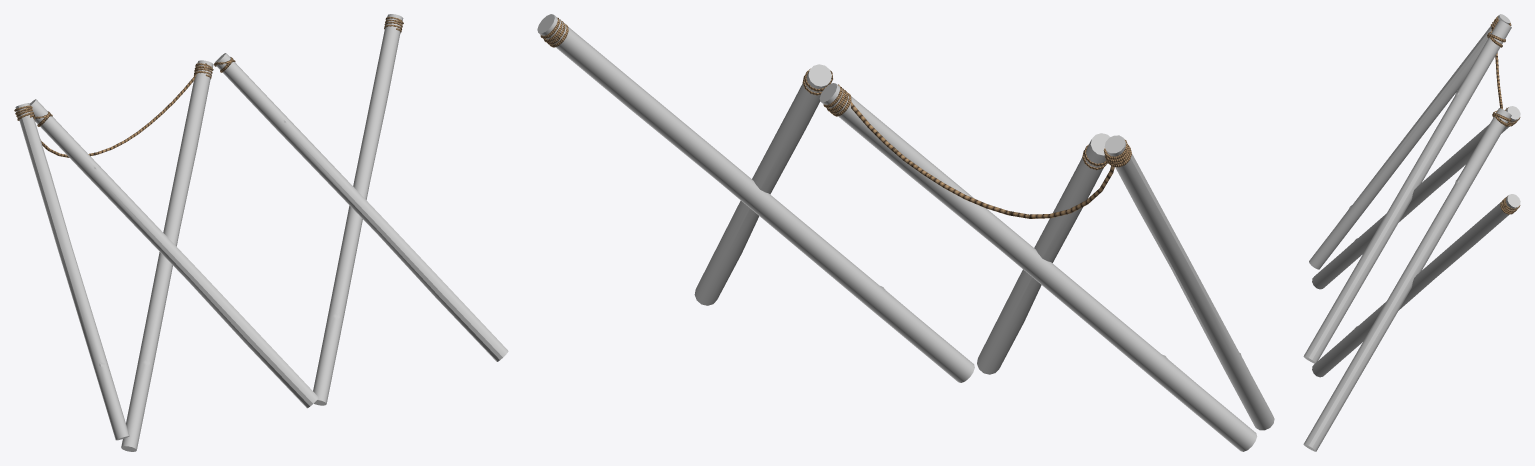
Rendered from SM_Scaffold_structure_base_1.fbx.
3 views of the same model, side by side, from view 1: azimuth 30°, elevation 25°; view 2: azimuth 150°, elevation 25°; view 3: azimuth 270°, elevation 25° (orthographic). The views are drawn at different scales.
Visible parts, largest first — view 1: SM_Scaffold_structure_base_1_5, SM_Scaffold_structure_base_1_3, SM_Scaffold_structure_base_1_6, SM_Scaffold_structure_base_1_4, SM_Scaffold_structure_base_1_1, SM_Scaffold_structure_base_1_2; view 2: SM_Scaffold_structure_base_1_4, SM_Scaffold_structure_base_1_6, SM_Scaffold_structure_base_1_1, SM_Scaffold_structure_base_1_5, SM_Scaffold_structure_base_1_3, SM_Scaffold_structure_base_1_2; view 3: SM_Scaffold_structure_base_1_5, SM_Scaffold_structure_base_1_3, SM_Scaffold_structure_base_1_1, SM_Scaffold_structure_base_1_4, SM_Scaffold_structure_base_1_6.
Boxes of the visible parts, bbox=[...] form: SM_Scaffold_structure_base_1_5: bbox=[214, 53, 508, 361]; SM_Scaffold_structure_base_1_3: bbox=[30, 99, 318, 408]; SM_Scaffold_structure_base_1_6: bbox=[121, 60, 213, 451]; SM_Scaffold_structure_base_1_4: bbox=[313, 14, 403, 405]; SM_Scaffold_structure_base_1_1: bbox=[14, 103, 129, 440]; SM_Scaffold_structure_base_1_2: bbox=[33, 63, 206, 157]; SM_Scaffold_structure_base_1_4: bbox=[537, 14, 974, 382]; SM_Scaffold_structure_base_1_6: bbox=[819, 83, 1257, 451]; SM_Scaffold_structure_base_1_1: bbox=[1103, 135, 1274, 430]; SM_Scaffold_structure_base_1_5: bbox=[694, 64, 832, 305]; SM_Scaffold_structure_base_1_3: bbox=[977, 133, 1110, 374]; SM_Scaffold_structure_base_1_2: bbox=[838, 84, 1114, 218]; SM_Scaffold_structure_base_1_5: bbox=[1303, 108, 1511, 451]; SM_Scaffold_structure_base_1_3: bbox=[1303, 20, 1511, 363]; SM_Scaffold_structure_base_1_1: bbox=[1309, 14, 1511, 269]; SM_Scaffold_structure_base_1_4: bbox=[1312, 194, 1520, 377]; SM_Scaffold_structure_base_1_6: bbox=[1312, 106, 1520, 289].
Size of the model in its own units: 432 by 299 by 219.
